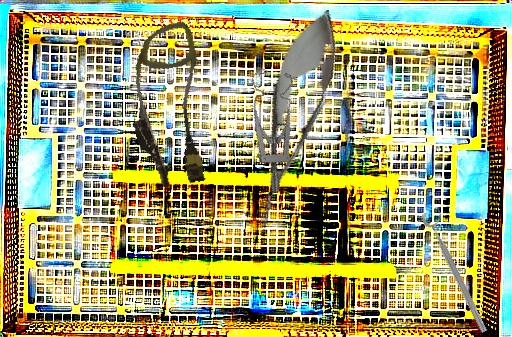Cannula: (113, 19, 225, 194)
Fixation Ring: (419, 206, 498, 335)
Micro Scissor: (235, 1, 353, 234)
Speculum: (217, 62, 320, 194)
